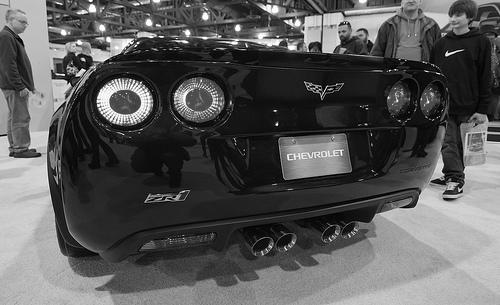car: (46, 34, 453, 269)
